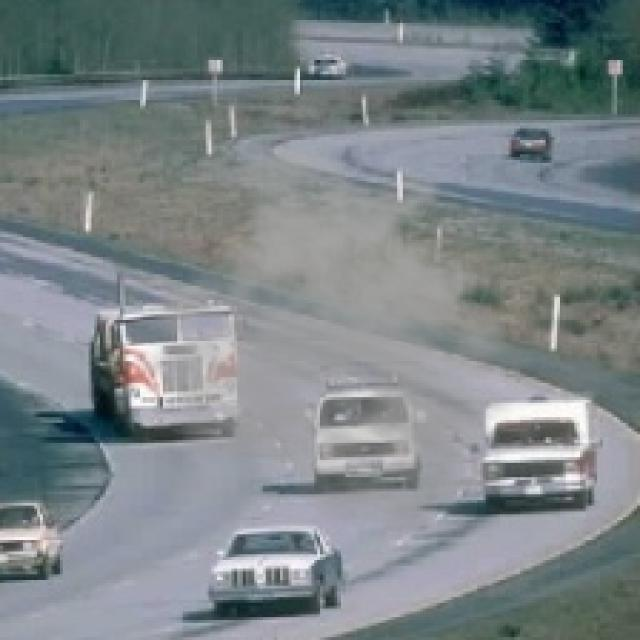Smoke: (128, 140, 554, 537)
